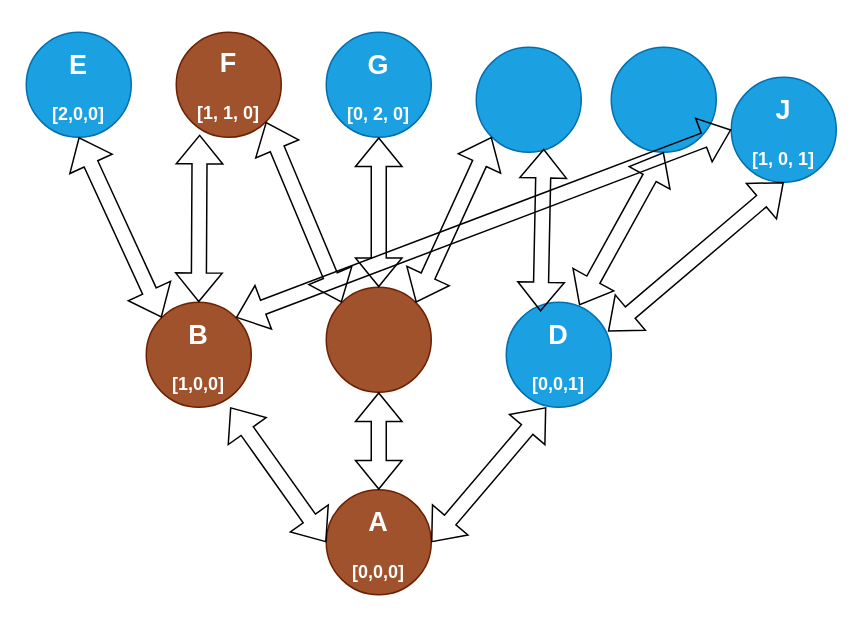
Image size: 863x626. Some labels were removed from this diagram. Each missing label, with the centre of its shape:
"C [0,1,0]" goes at pixel 378 339.
"H [0, 1, 1]" goes at pixel 528 99.
"I [0, 0, 2]" goes at pixel 663 99.
